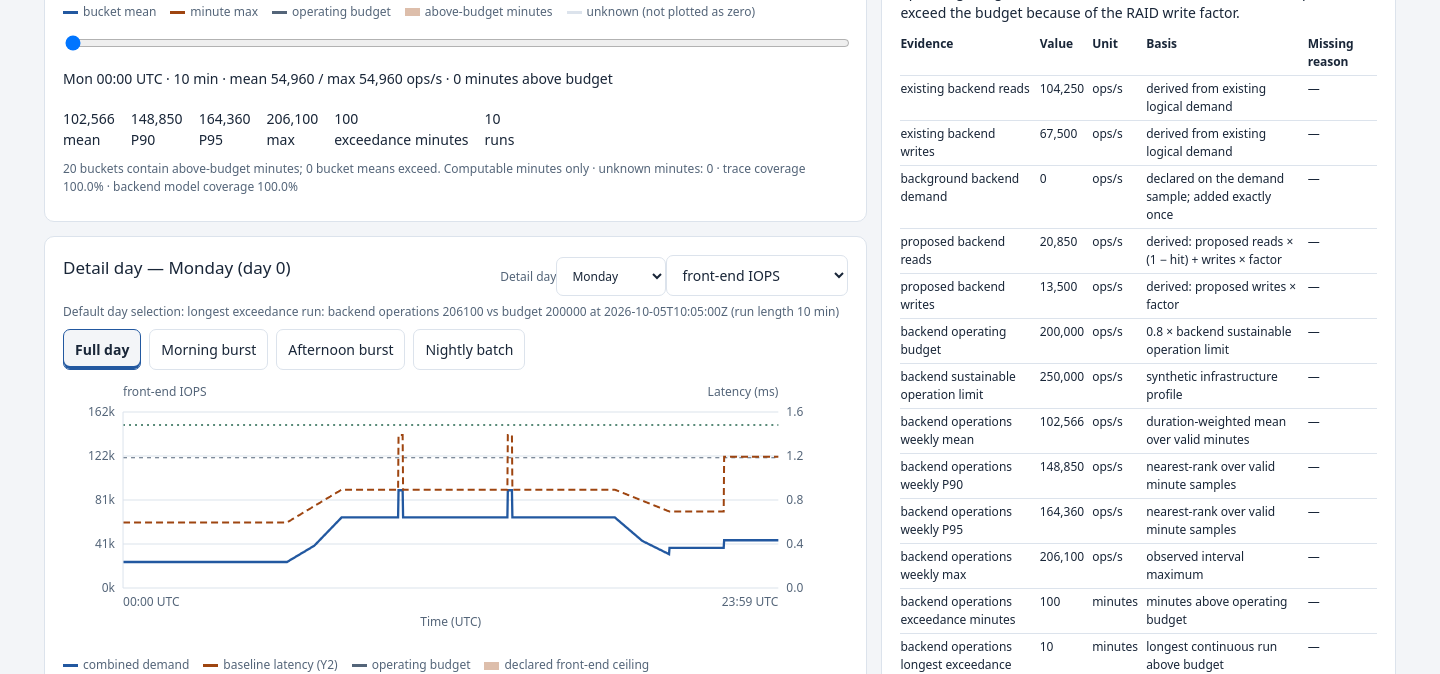
Test: App (default INF-B × WL-VM) › nightly note appears only when the nightly preset is selected
(page scrolled)
Check: the text "Backup completion/window compliance not modeled" is not shown
Step 1. Click the button "Morning burst" → (209, 349), box x1=149 y1=329 x2=268 y2=370
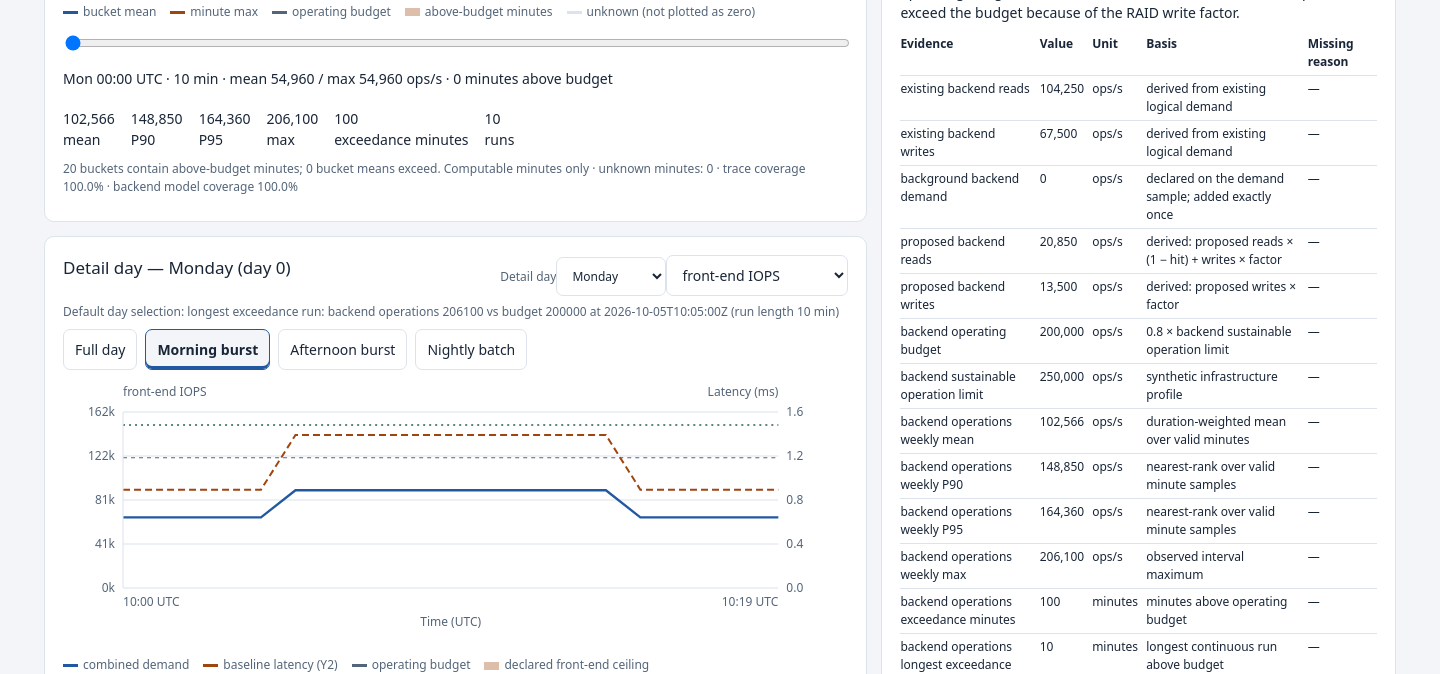
Check: the text "Backup completion/window compliance not modeled" is not shown
Step 2. Click the button "Nightly batch" → (471, 349), box x1=415 y1=329 x2=527 y2=370
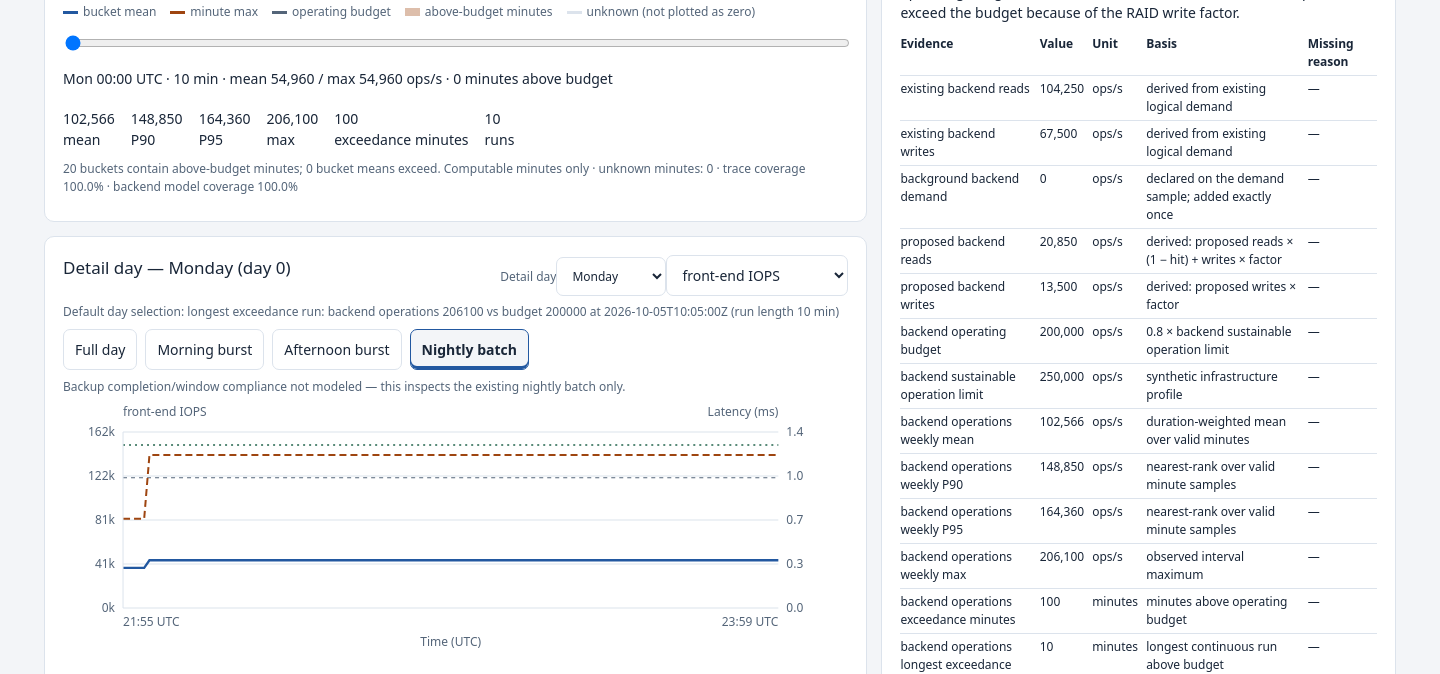
Check: the text "Backup completion/window compliance not modeled" is shown, box x1=63 y1=378 x2=626 y2=395
